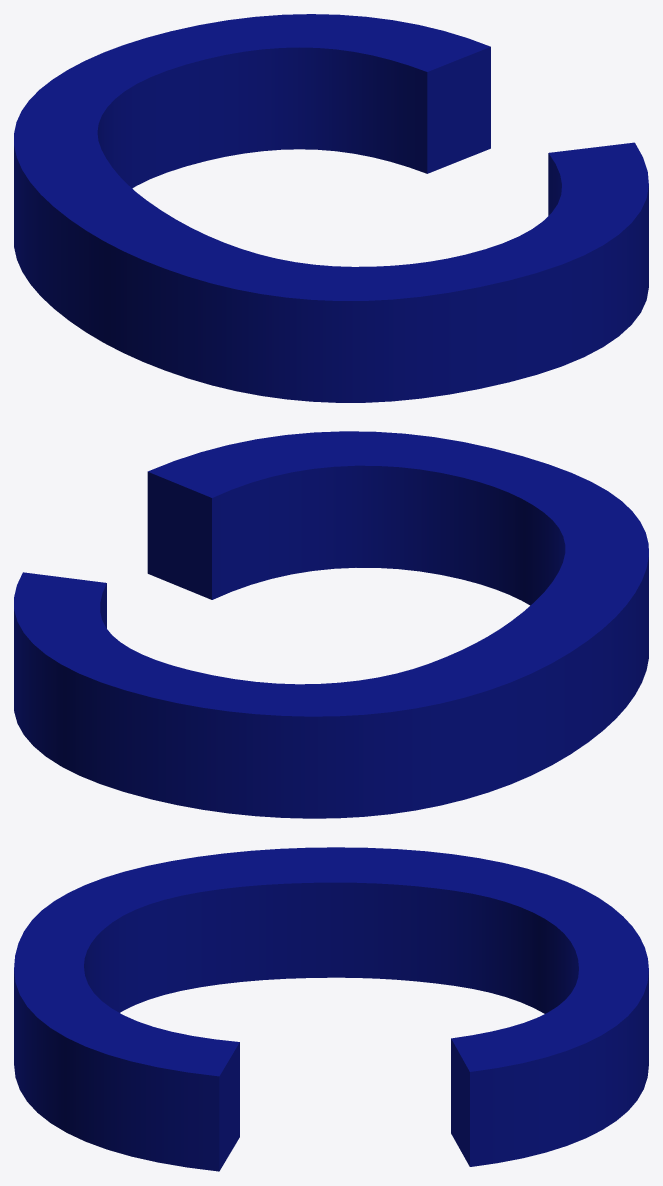
The picture shows the model from 3 angles, top to bottom: view 1: azimuth 30°, elevation 25°; view 2: azimuth 150°, elevation 25°; view 3: azimuth 270°, elevation 25°; orthographic projection. The views are drawn at different scales.
Visible parts, largest first — view 1: TextPlus003; view 2: TextPlus003; view 3: TextPlus003.
Boxes of the visible parts, x1,y1,x2,y2 form: TextPlus003: (14, 14, 648, 402); TextPlus003: (14, 431, 648, 818); TextPlus003: (14, 847, 648, 1171).
Bounding box in the file's own units: 22.64 × 4.38 × 26.52.
